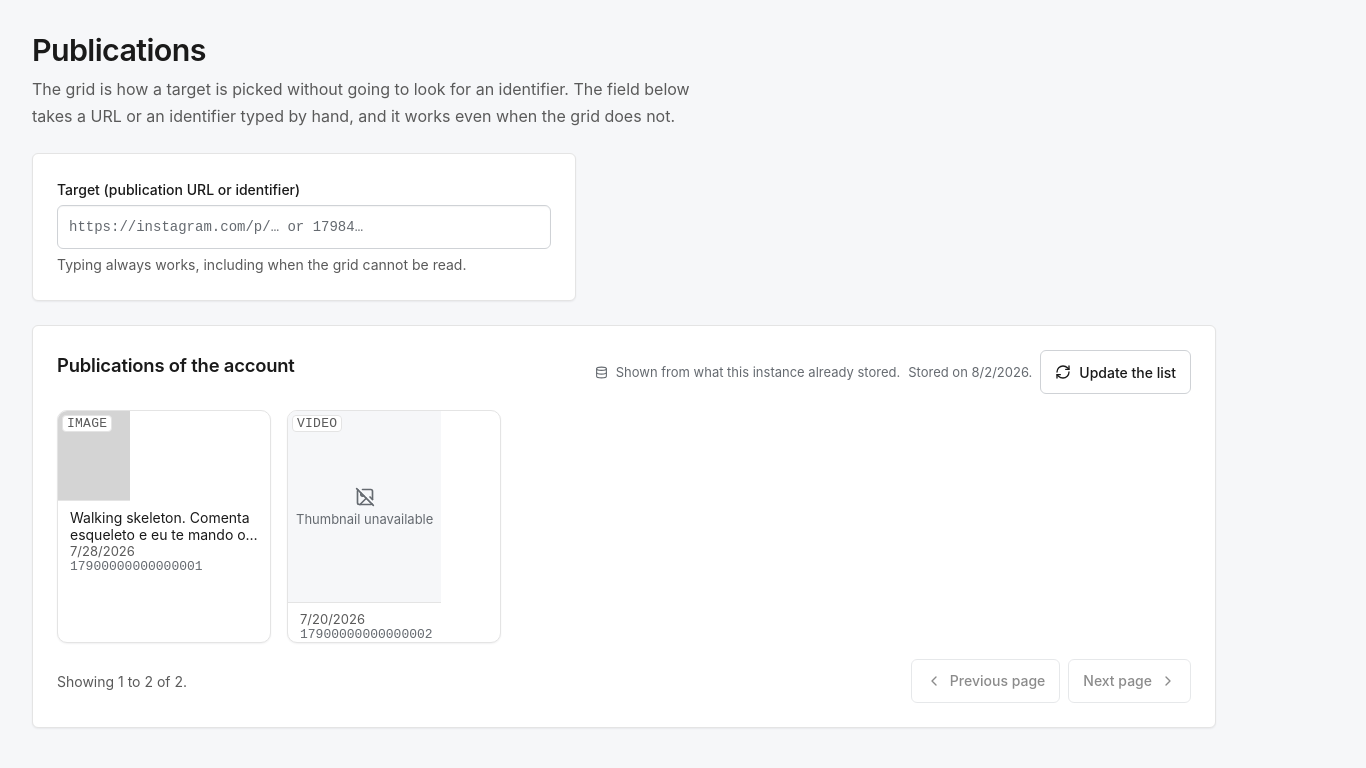
Test: REQ-070: an explicit update renews what is stored (criterion 30) › walks the platform only when the operator asks
What coordinates should you click on to do the following:
click the button "Update the list"
I would click on:
 (1116, 372)
Its box is [1040,350,1191,394].
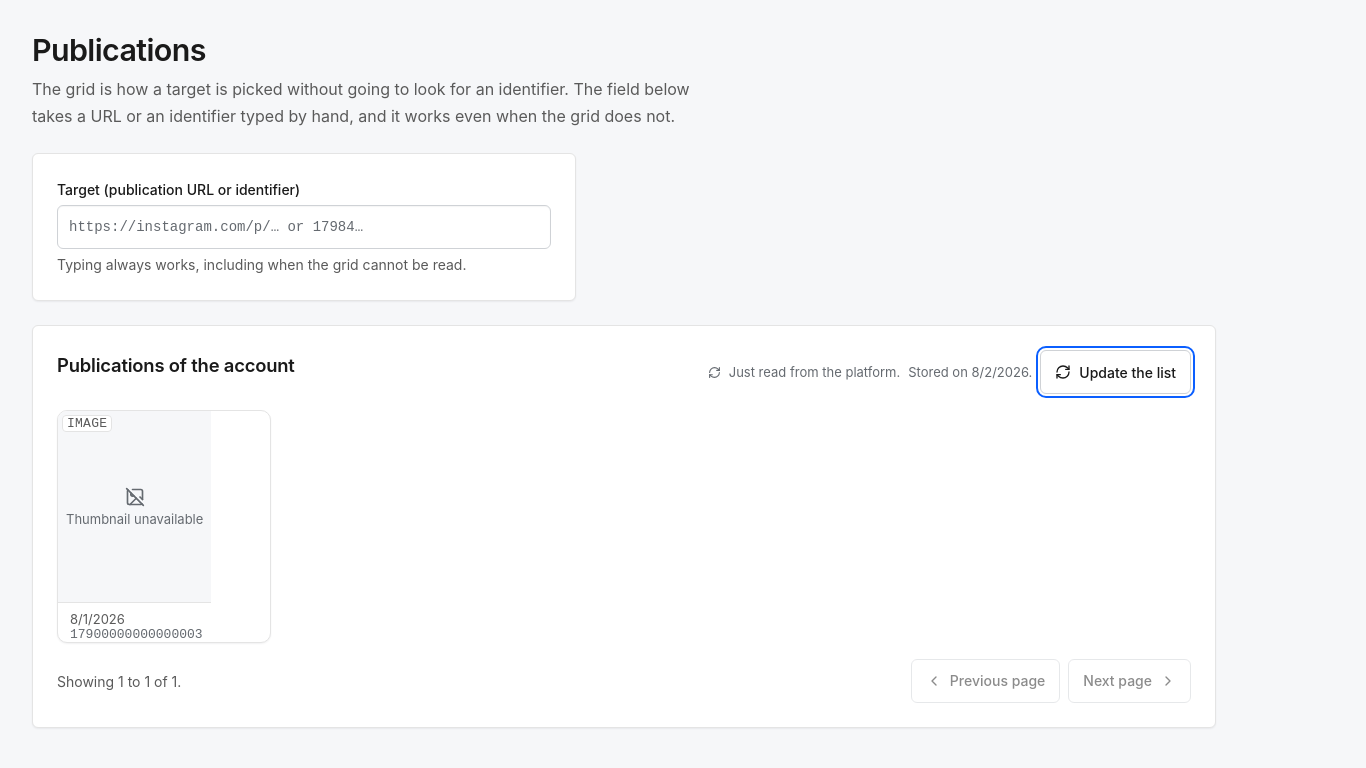
Result: the text "Just read from the platform." is shown at [729,362,900,383]
